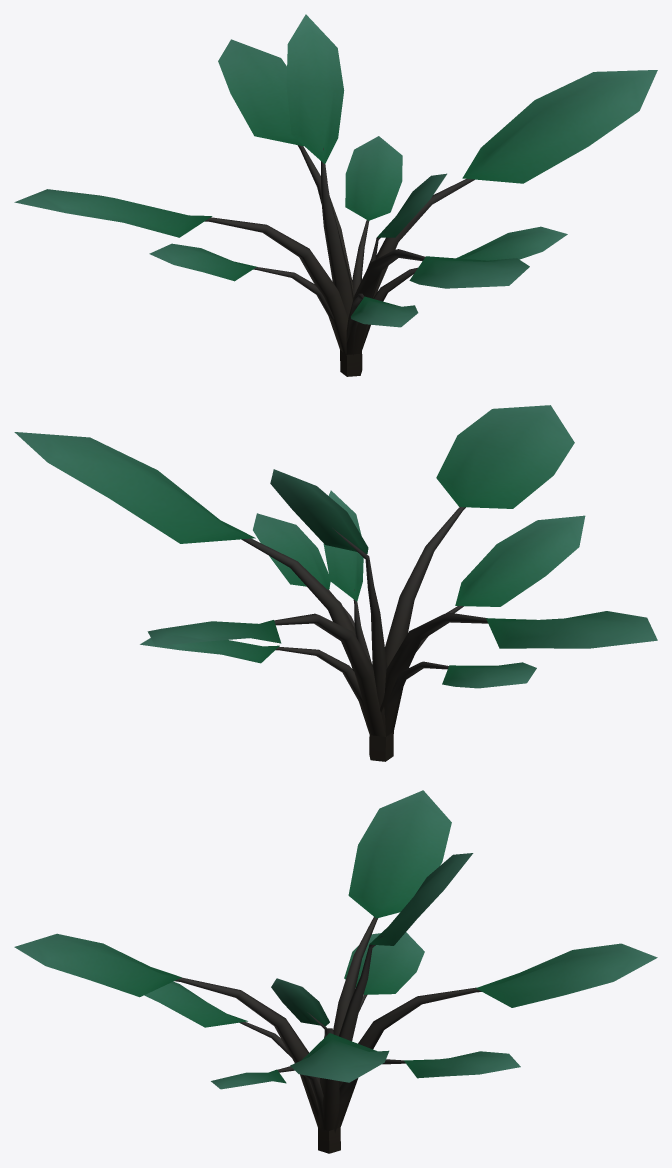
Rendered from environment_plant_d.fbx.
The picture shows the model from 3 angles, top to bottom: view 1: azimuth 30°, elevation 25°; view 2: azimuth 150°, elevation 25°; view 3: azimuth 270°, elevation 25°; orthographic projection. The views are drawn at different scales.
Parts seen in each view (by area): view 1: pPlane36; view 2: pPlane36; view 3: pPlane36.
Boxes of the visible parts, x1,y1,x2,y2 form: pPlane36: [14, 14, 657, 376]; pPlane36: [14, 405, 657, 761]; pPlane36: [14, 790, 657, 1153].
Bounding box in the file's own units: 749 × 355 × 672.
